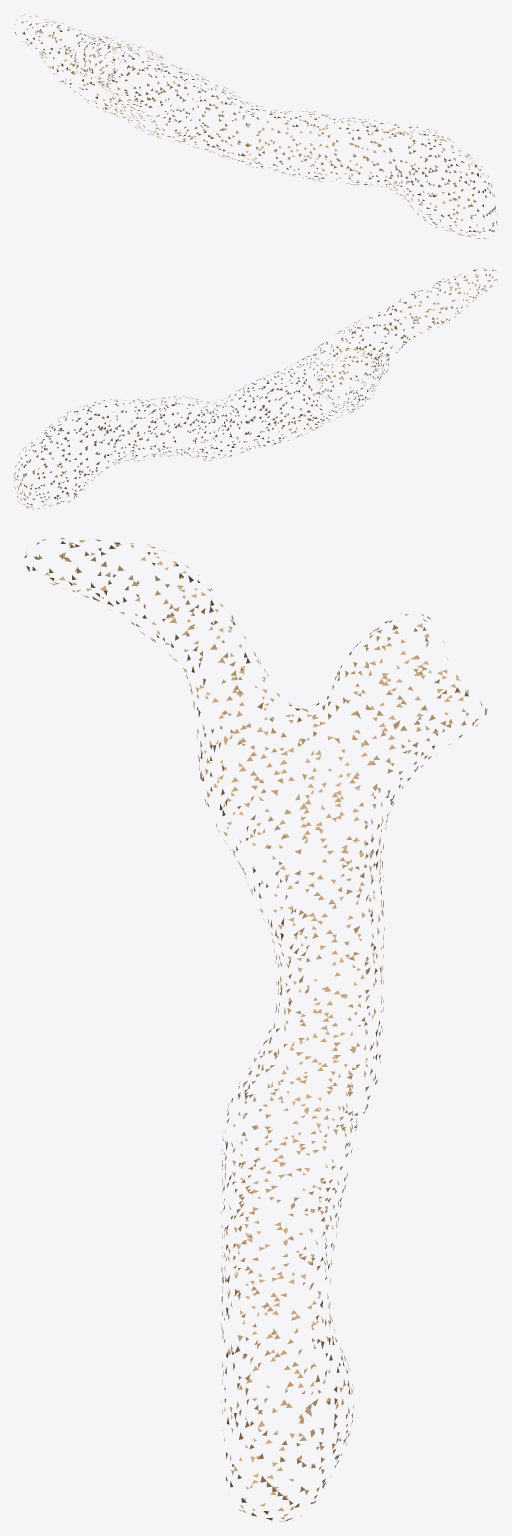
File: morph_006.glb
3 views of the same model, one above another, from view 1: azimuth 30°, elevation 25°; view 2: azimuth 150°, elevation 25°; view 3: azimuth 270°, elevation 25° (orthographic). The views are drawn at different scales.
Bounding box in the file's own units: 106 × 72.16 × 50.74.
